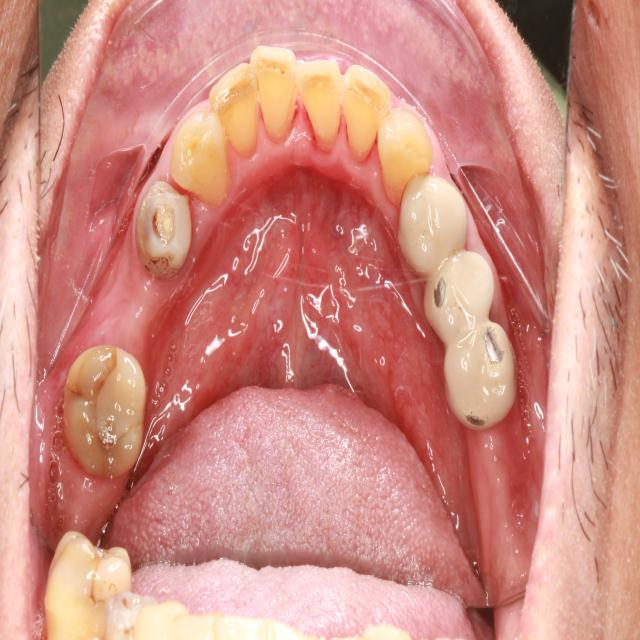tooth: (53, 341, 158, 486), (440, 317, 522, 435), (396, 167, 473, 284), (419, 240, 496, 343), (130, 177, 199, 282), (372, 101, 436, 212), (168, 103, 234, 210), (206, 55, 264, 161), (248, 34, 300, 151), (293, 51, 348, 161), (340, 60, 391, 169)
